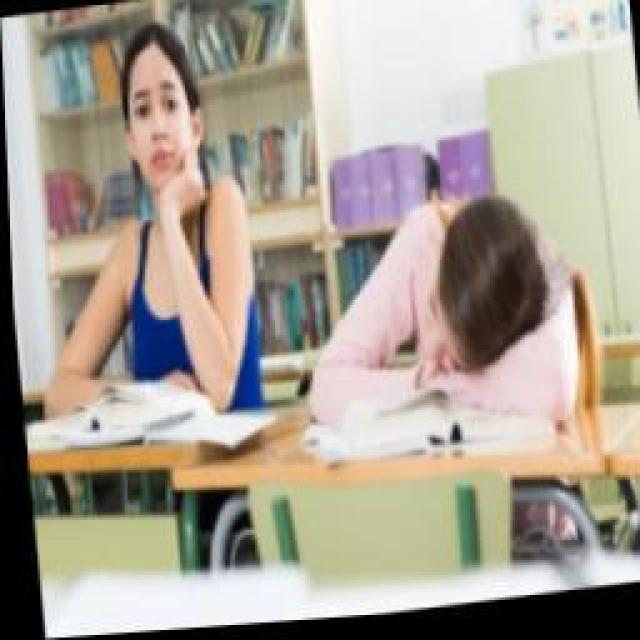sleep: (282, 180, 580, 480)
